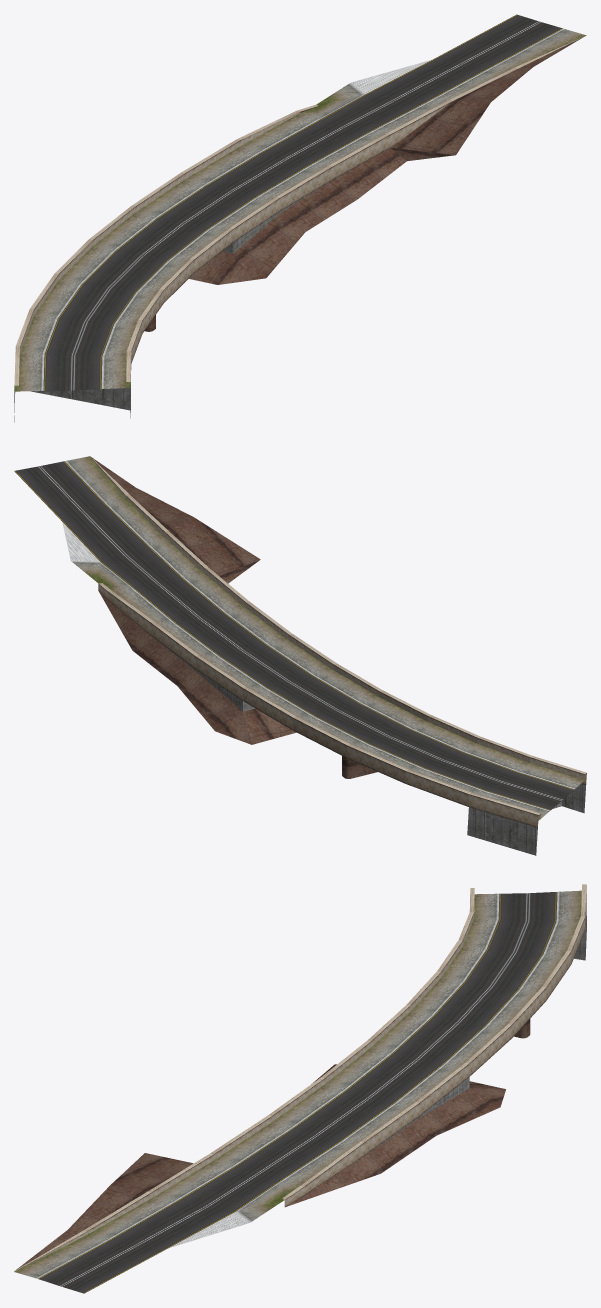
File: vgssspagjun03.obj
3 renders of one model, top to bottom at view 1: azimuth 90°, elevation 25°; view 2: azimuth 150°, elevation 25°; view 3: azimuth 270°, elevation 25°, orthographic. The views are drawn at different scales.
Parts seen in each view (by area): view 1: vgsSspagjun03; view 2: vgsSspagjun03; view 3: vgsSspagjun03.
Boxes of the visible parts, <box> form: vgsSspagjun03: <box>14,14,586,422</box>; vgsSspagjun03: <box>14,456,586,855</box>; vgsSspagjun03: <box>14,884,586,1293</box>.
Bounding box in the file's own units: 160 × 9.13 × 99.02.
Materials: 6 (6 with a texture image).
